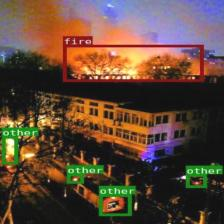fire: (62, 45, 203, 81)
